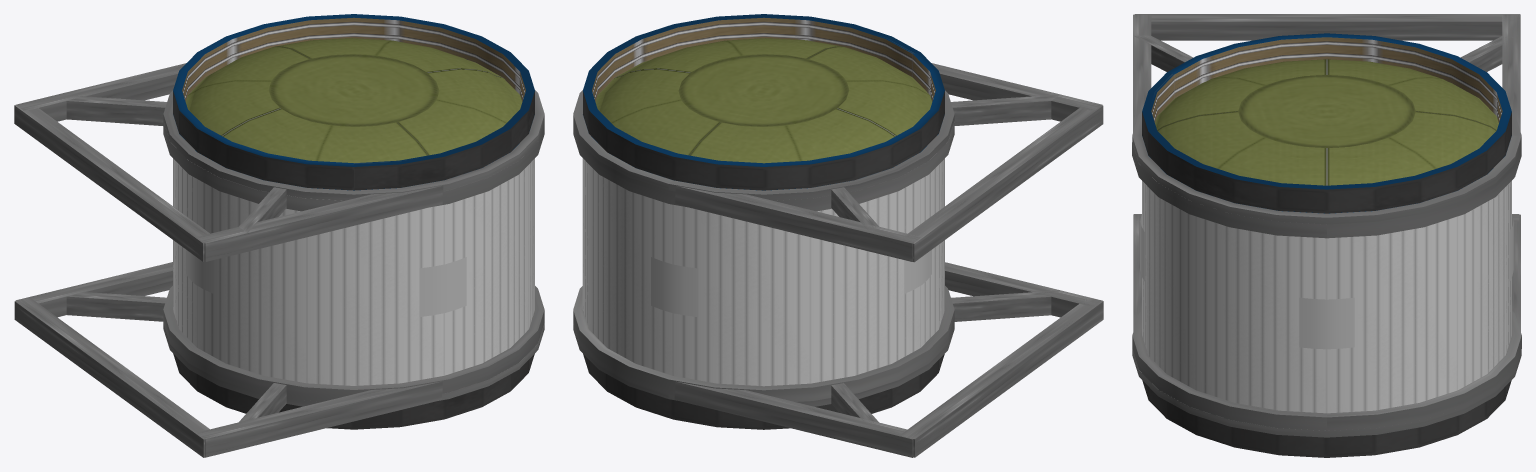
The model's file is FLM-450M.FBX.
The picture shows the model from 3 angles, left to right: view 1: azimuth 30°, elevation 25°; view 2: azimuth 150°, elevation 25°; view 3: azimuth 270°, elevation 25°; orthographic projection. The views are drawn at different scales.
Visible parts, largest first — view 1: Cylinder002, EndCap001, TankSleeve001, MountingBracketBand002, Box011, Box003, Box007, Box006, BarrelBand003, TankSleeve002, MountingBracketBand001, Box001 (+8 smaller); view 2: Cylinder002, EndCap001, TankSleeve001, MountingBracketBand002, Box011, Box003, Box001, Box010, BarrelBand003, TankSleeve002, MountingBracketBand001, Box006 (+8 smaller); view 3: Cylinder002, EndCap001, TankSleeve001, Box003, MountingBracketBand002, TankSleeve002, MountingBracketBand001, BarrelBand003, BarrelBand002, decalPanel002, Box001, Box006 (+4 smaller).
Part boxes in pixels (<box>): Cylinder002: <box>173,158,534,385</box>; EndCap001: <box>179,38,522,190</box>; TankSleeve001: <box>173,14,534,190</box>; MountingBracketBand002: <box>163,286,544,401</box>; Box011: <box>14,297,209,457</box>; Box003: <box>14,105,209,261</box>; Box007: <box>196,381,442,457</box>; Box006: <box>197,185,443,261</box>; BarrelBand003: <box>163,90,544,200</box>; TankSleeve002: <box>173,353,534,429</box>; MountingBracketBand001: <box>163,121,544,211</box>; Box001: <box>16,63,186,121</box>; Cylinder002: <box>582,158,944,386</box>; EndCap001: <box>591,38,939,190</box>; TankSleeve001: <box>583,14,944,190</box>; MountingBracketBand002: <box>573,286,954,401</box>; Box011: <box>900,297,1103,457</box>; Box003: <box>900,105,1103,262</box>; Box001: <box>675,186,921,261</box>; Box010: <box>674,381,913,457</box>; BarrelBand003: <box>573,90,954,200</box>; TankSleeve002: <box>583,354,944,429</box>; MountingBracketBand001: <box>573,121,954,211</box>; Box006: <box>931,63,1102,121</box>; Cylinder002: <box>1142,181,1511,413</box>; EndCap001: <box>1148,59,1505,213</box>; TankSleeve001: <box>1142,33,1511,213</box>; Box003: <box>1134,14,1520,40</box>; MountingBracketBand002: <box>1132,311,1521,430</box>; TankSleeve002: <box>1142,380,1511,457</box>; MountingBracketBand001: <box>1132,142,1521,238</box>; BarrelBand003: <box>1132,111,1521,224</box>; BarrelBand002: <box>1132,349,1521,437</box>; decalPanel002: <box>1299,297,1354,349</box>; Box001: <box>1502,14,1520,130</box>; Box006: <box>1133,14,1151,132</box>.
Size of what is drawn, in the model's own units: 1.63 by 1.32 by 1.
